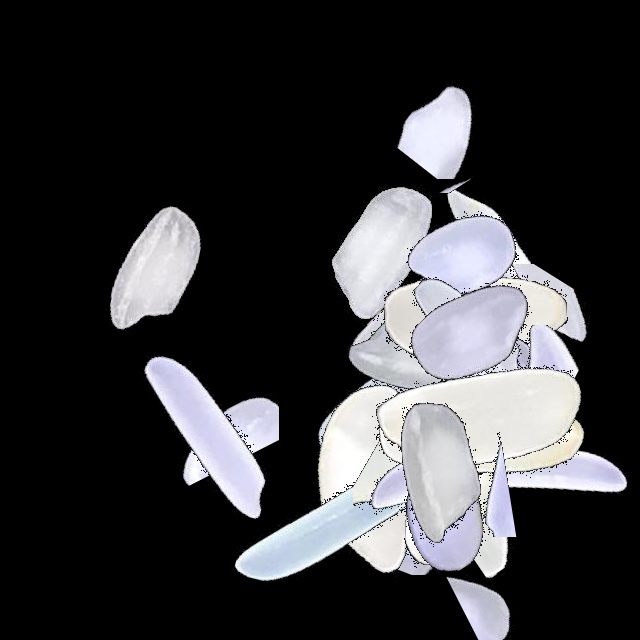Broken: (323, 305, 573, 476), (302, 406, 552, 575), (379, 277, 629, 444), (376, 137, 543, 387), (298, 333, 548, 489), (340, 23, 590, 179), (421, 332, 574, 582), (358, 317, 503, 567), (143, 272, 279, 522), (390, 264, 640, 391), (390, 519, 640, 640), (327, 427, 577, 537), (399, 230, 508, 480), (390, 325, 640, 430), (330, 467, 580, 564), (353, 374, 446, 624), (450, 154, 542, 404), (309, 105, 559, 193), (417, 278, 504, 528), (338, 344, 424, 594), (309, 321, 559, 406), (397, 384, 478, 634), (511, 219, 589, 469)
Full: (259, 327, 509, 577), (32, 143, 282, 393), (288, 204, 538, 454), (390, 343, 640, 593), (378, 199, 628, 449), (279, 356, 529, 606), (251, 282, 501, 532), (390, 289, 640, 539), (346, 171, 596, 421), (370, 190, 620, 440), (249, 350, 499, 600), (358, 219, 608, 469), (208, 390, 458, 640), (330, 353, 580, 603), (258, 129, 508, 379), (296, 231, 546, 481), (332, 336, 582, 586), (79, 312, 329, 562), (349, 193, 599, 443), (384, 269, 634, 519), (338, 130, 588, 380), (348, 210, 598, 460), (352, 309, 602, 559), (346, 206, 596, 456), (319, 390, 569, 640), (356, 292, 606, 542), (315, 348, 565, 598)
